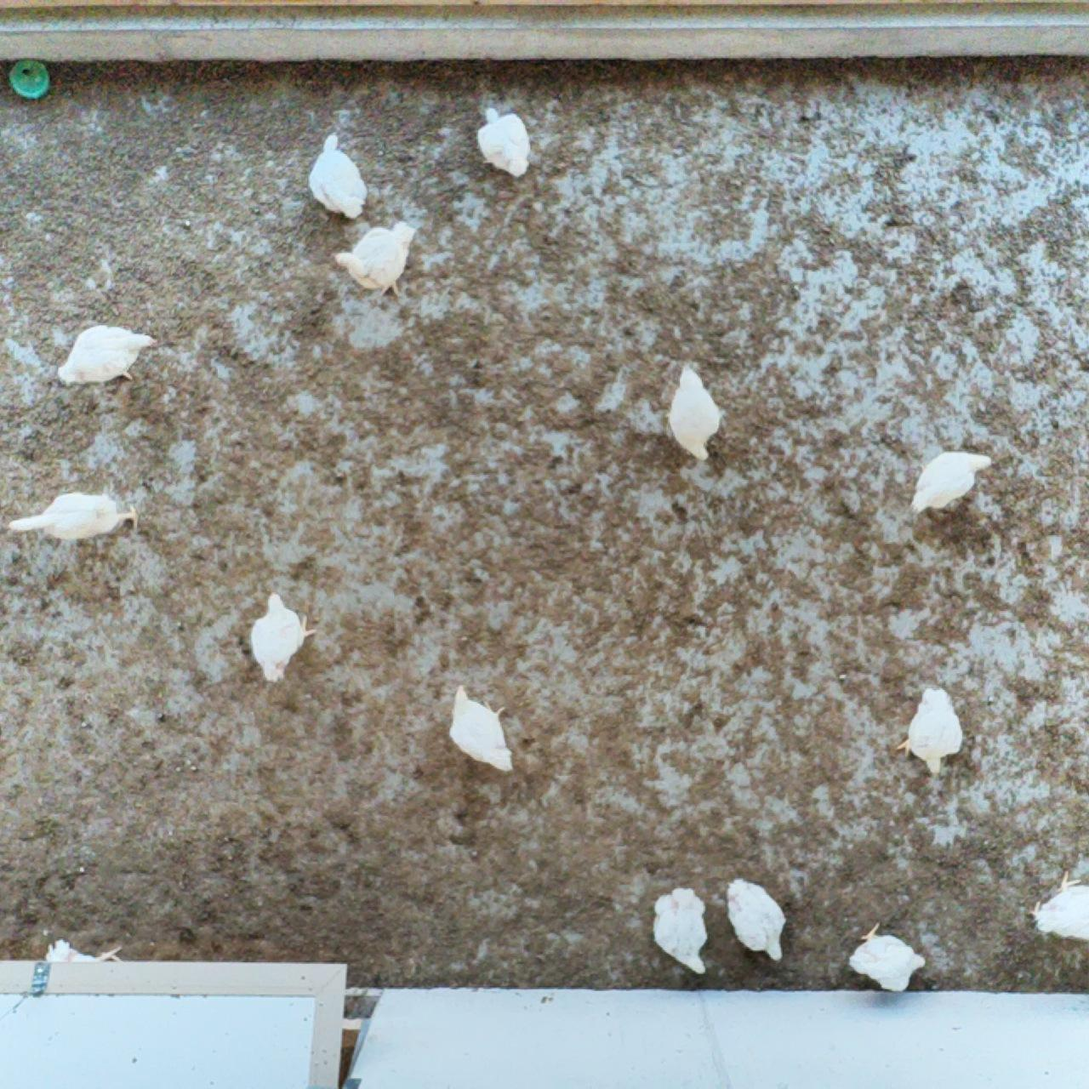chicken: (4, 485, 142, 551), (54, 317, 161, 400), (443, 676, 520, 779), (330, 219, 421, 305), (893, 684, 969, 785), (246, 586, 319, 687), (646, 881, 721, 979), (720, 872, 793, 969), (907, 445, 997, 521), (845, 919, 928, 997), (667, 360, 727, 467), (303, 130, 372, 222), (1022, 862, 1089, 945), (472, 100, 537, 181)
